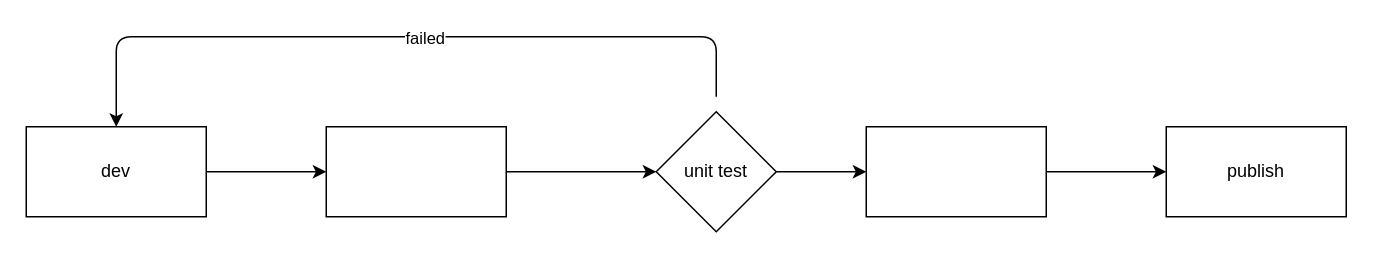
This 1373x258 diagram has some shape labels left out. The centre of each missing label's shape, as x and y in pixels:
"build" belongs at point (415, 171).
"generate doc" belongs at point (955, 171).
